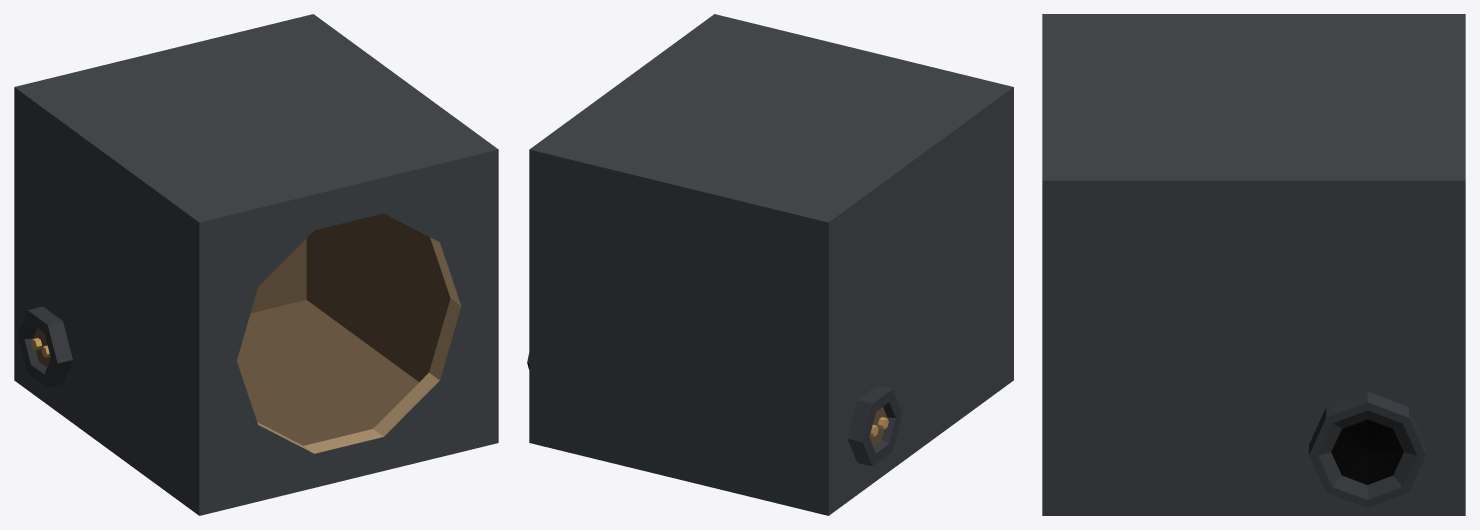
File: SM_Prop_SubBox_SingleBox_01.fbx
The picture shows the model from 3 angles, left to right: view 1: azimuth 30°, elevation 25°; view 2: azimuth 150°, elevation 25°; view 3: azimuth 270°, elevation 25°; orthographic projection. The views are drawn at different scales.
Visible parts, largest first — view 1: SM_Prop_SubBox_SingleBox_01; view 2: SM_Prop_SubBox_SingleBox_01; view 3: SM_Prop_SubBox_SingleBox_01.
Part boxes in pixels (x1,y1,x2,y2): SM_Prop_SubBox_SingleBox_01: (14, 14, 498, 515); SM_Prop_SubBox_SingleBox_01: (527, 14, 1013, 515); SM_Prop_SubBox_SingleBox_01: (1042, 14, 1465, 515).
Bounding box in the file's own units: 81.92 × 68.74 × 78.66.
